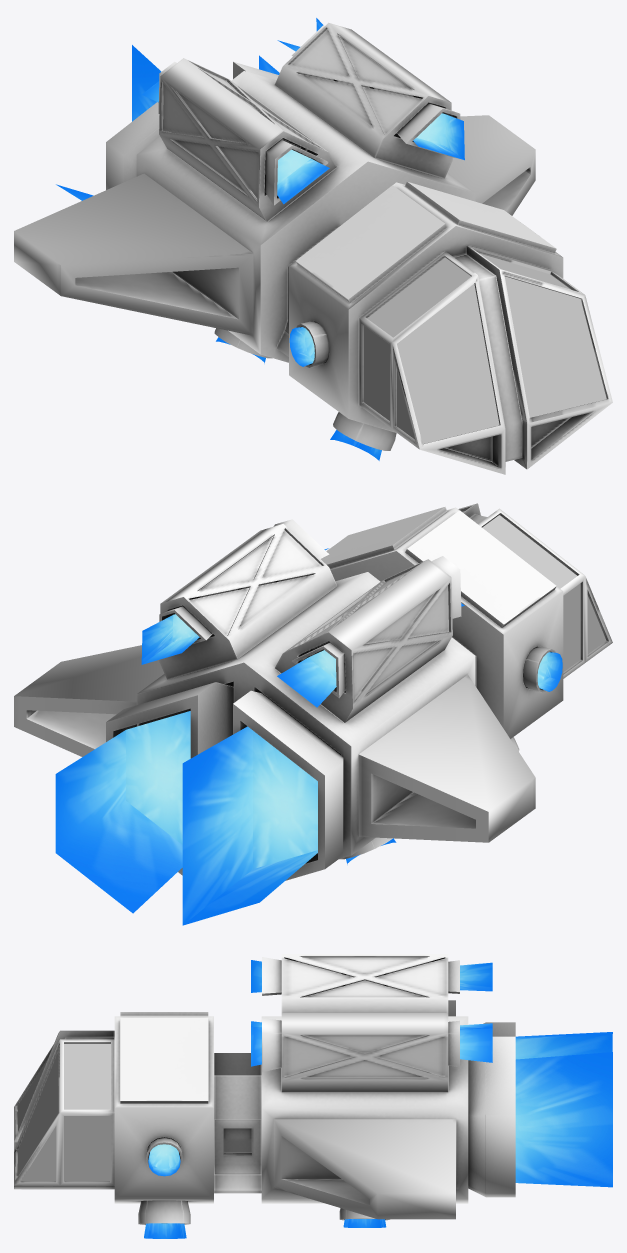
3 views of the same model, one above another, from view 1: azimuth 30°, elevation 25°; view 2: azimuth 150°, elevation 25°; view 3: azimuth 270°, elevation 25° (orthographic). The views are drawn at different scales.
Visible parts, largest first — view 1: Объект_Куб; view 2: Объект_Куб; view 3: Объект_Куб.
Part boxes in pixels (x1=…): Объект_Куб: x1=14, y1=18, x2=612, y2=474; Объект_Куб: x1=14, y1=503, x2=612, y2=925; Объект_Куб: x1=14, y1=954, x2=612, y2=1238.
Bounding box in the file's own units: 442 × 250 × 579.
